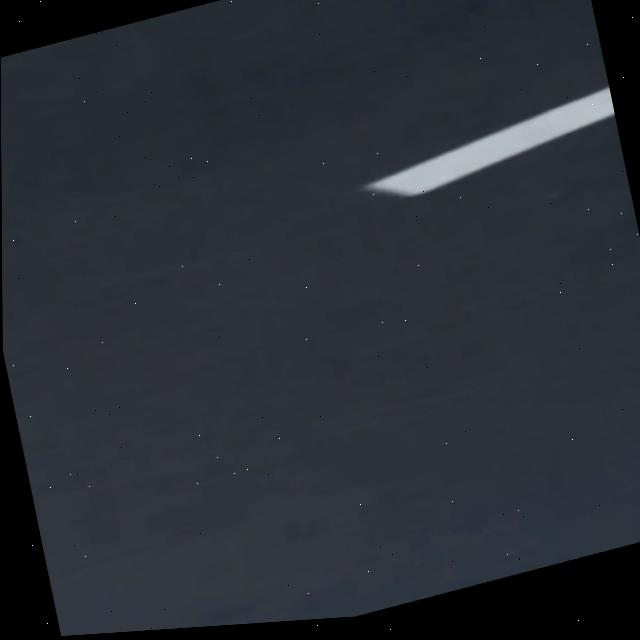center: (364, 86, 615, 196)
